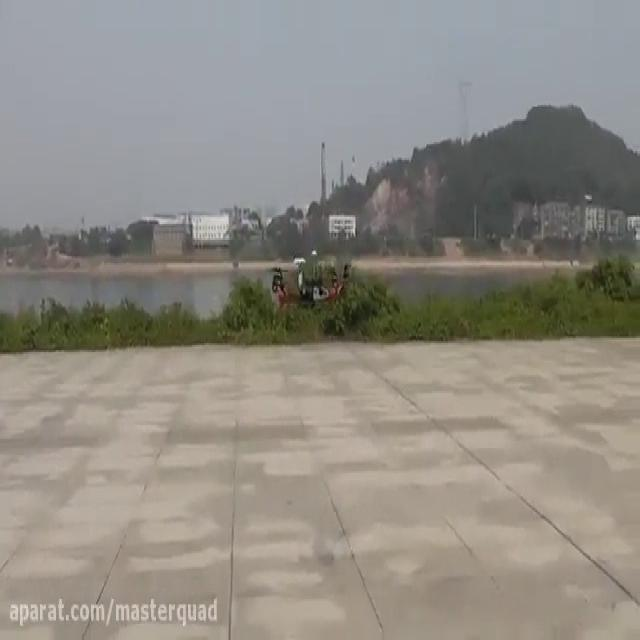drone: (269, 247, 353, 309)
